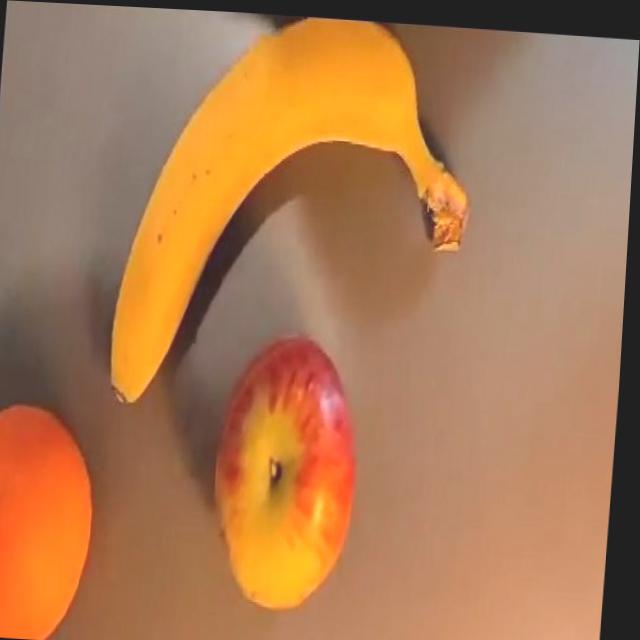Apple: (209, 326, 370, 611)
Banana: (108, 5, 482, 421)
Orange: (0, 399, 104, 640)
